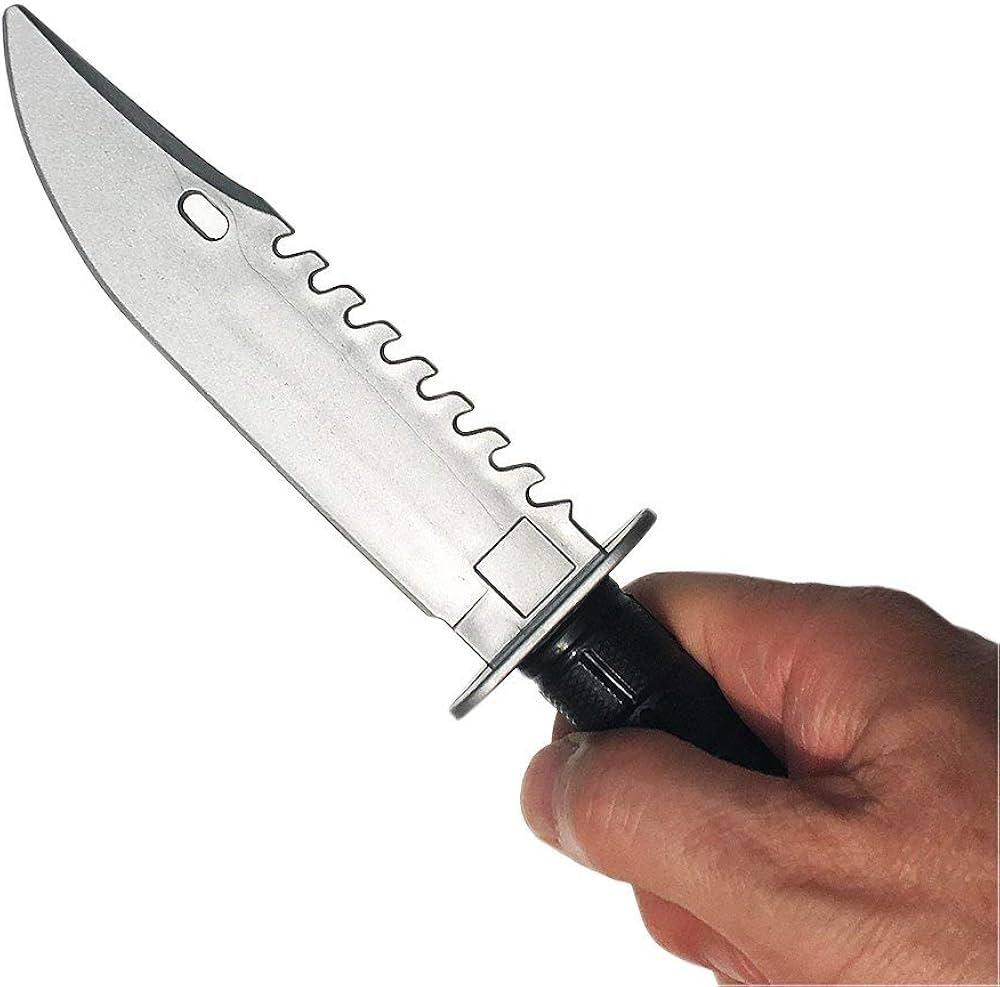Knife: (1, 1, 799, 791), (510, 560, 1000, 987), (520, 564, 1000, 987)
